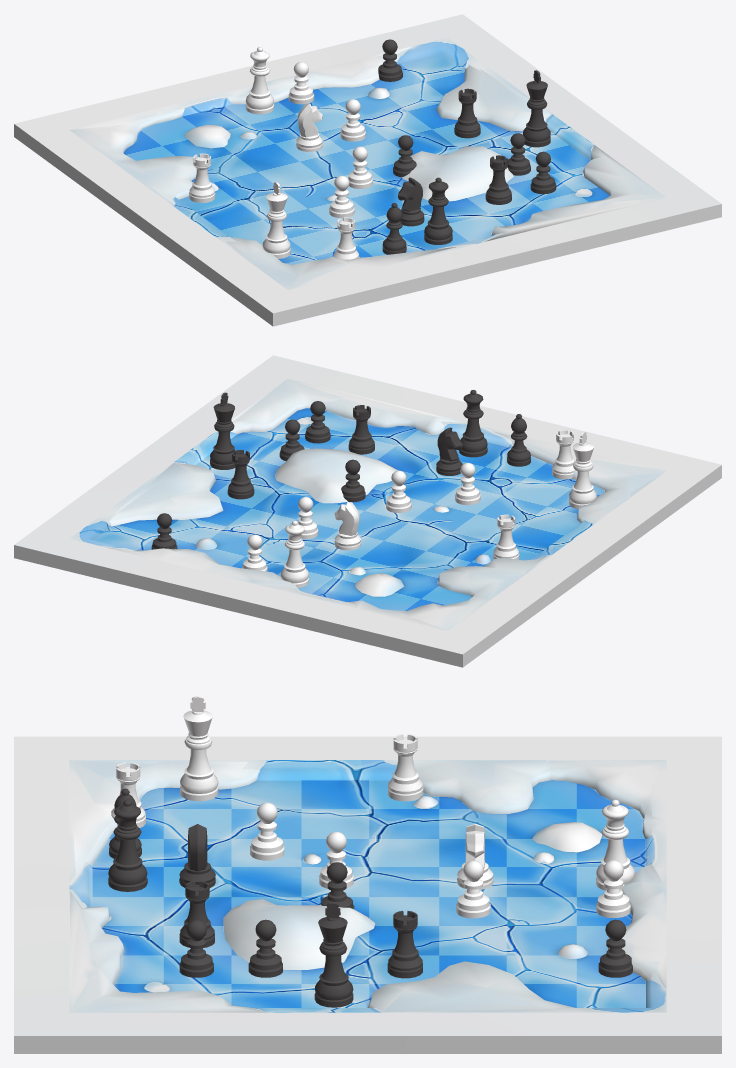
File: Mau_02.glb
3 renders of one model, top to bottom at view 1: azimuth 30°, elevation 25°; view 2: azimuth 150°, elevation 25°; view 3: azimuth 270°, elevation 25°, orthographic. The views are drawn at different scales.
Parts seen in each view (by area): view 1: ice10_base.002, ice10_base, ice10_base.003, ice10_base.001, bool_cube, king.001, king.002, queen.002, queen.001, knight.001, knight, rook.002 (+13 smaller); view 2: ice10_base.002, ice10_base, ice10_base.003, ice10_base.001, bool_cube, king.001, king.002, queen.001, queen.002, knight.001, knight, rook.002 (+13 smaller); view 3: ice10_base, ice10_base.002, ice10_base.003, ice10_base.001, bool_cube, king.001, king.002, queen.001, queen.002, rook.002, rook.004, bool_obj.002 (+12 smaller).
Part boxes in pixels (<box>): ice10_base.002: <box>14,14,721,326</box>; ice10_base: <box>123,53,609,264</box>; ice10_base.003: <box>69,46,666,289</box>; ice10_base.001: <box>70,37,608,288</box>; bool_cube: <box>402,146,513,201</box>; king.001: <box>523,70,550,147</box>; king.002: <box>262,182,290,258</box>; queen.002: <box>245,47,274,114</box>; queen.001: <box>424,177,452,244</box>; knight.001: <box>296,103,322,151</box>; knight: <box>398,177,424,226</box>; rook.002: <box>454,88,480,138</box>; ice10_base.002: <box>14,355,721,667</box>; ice10_base: <box>93,408,604,610</box>; ice10_base.003: <box>105,378,666,630</box>; ice10_base.001: <box>69,390,664,630</box>; bool_cube: <box>275,448,397,503</box>; king.001: <box>210,392,235,469</box>; king.002: <box>569,432,596,509</box>; queen.001: <box>459,390,487,457</box>; queen.002: <box>280,520,308,587</box>; knight.001: <box>334,502,360,550</box>; knight: <box>436,427,462,475</box>; rook.002: <box>227,450,254,499</box>; ice10_base: <box>92,780,645,1007</box>; ice10_base.002: <box>14,736,721,1053</box>; ice10_base.003: <box>69,760,666,1012</box>; ice10_base.001: <box>69,760,666,1012</box>; bool_cube: <box>223,899,375,969</box>; king.001: <box>314,902,353,1007</box>; king.002: <box>180,696,218,801</box>; queen.001: <box>108,799,147,891</box>; queen.002: <box>596,799,635,890</box>; rook.002: <box>387,911,422,978</box>; rook.004: <box>388,734,423,801</box>; bool_obj.002: <box>532,822,602,852</box>.
Bounding box in the file's own units: 32 × 5.26 × 32.
2 materials, 2 textured.
